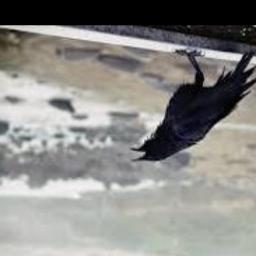Crow: (129, 47, 256, 164)
